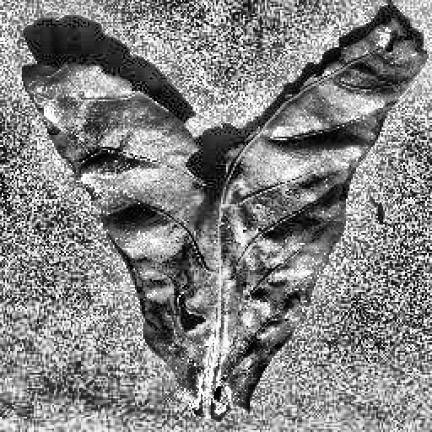leaf: (22, 19, 427, 417)
